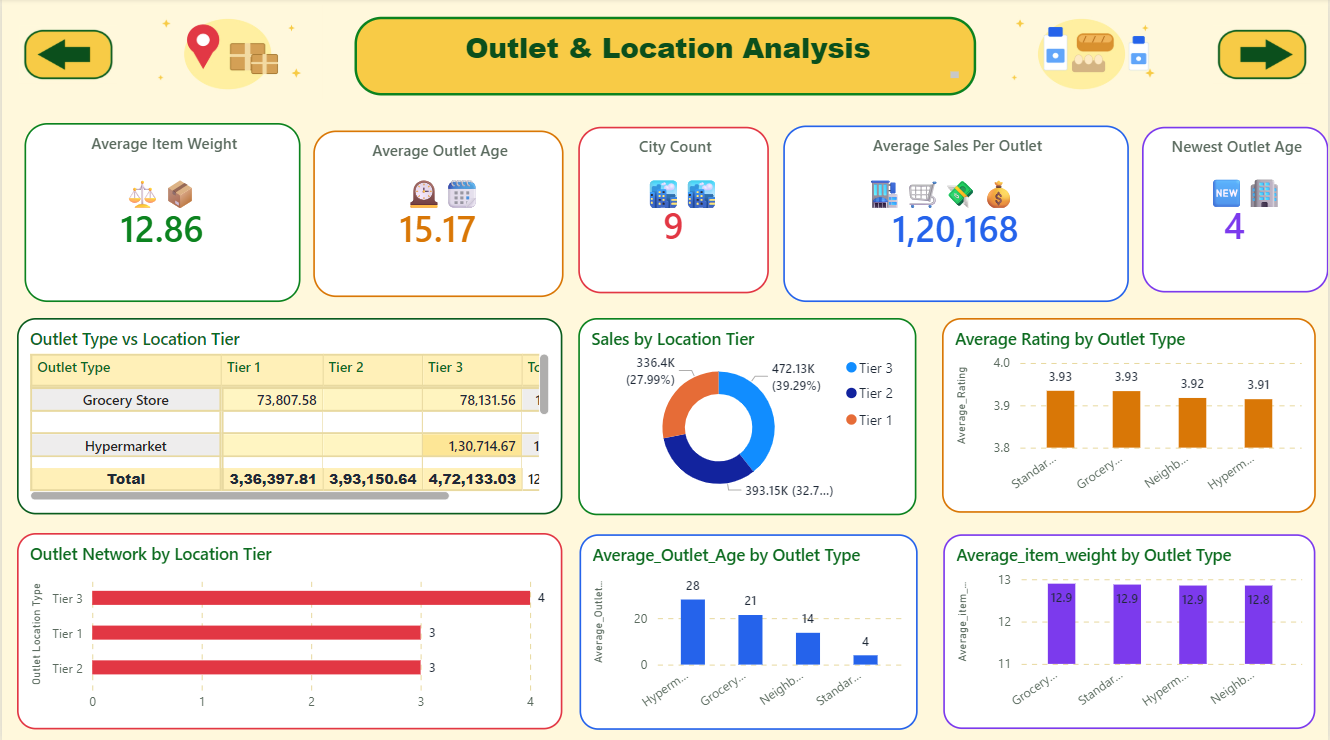

Layout of this report page (visuals, bound fields, positions):
{"tool":"powerbi","page":{"name":"Outlet & Location Analysis","canvas":[1280,720],"ordinal":3},"visuals":[{"type":"textbox","title":"Outlet & Location Analysis","box":[340,18,600,76],"z":0},{"type":"image","box":[122,2,192,100],"z":1000},{"type":"image","box":[946,2,192,100],"z":2000},{"type":"cardVisual","title":"City Count","fields":{"Data":["blinkit_data_master.City_count"]},"box":[556.7,124.5,184.3,160.7],"z":3000},{"type":"cardVisual","title":"Average Outlet Age","fields":{"Data":["blinkit_data_master.Average_Outlet_Age"]},"box":[300.1,128.3,241.6,160.7],"z":4000},{"type":"cardVisual","title":"Average Sales Per Outlet","fields":{"Data":["blinkit_data_master.Average_Sales_per_Outlet"]},"box":[754,123.2,333.5,170.1],"z":5000},{"type":"cardVisual","title":"Average Item Weight","fields":{"Data":["blinkit_data_master.Average_item_weight"]},"box":[21.2,120.8,266.5,173.1],"z":6000},{"type":"cardVisual","title":"Newest Outlet Age","fields":{"Data":["blinkit_data_master.Newest_outlet_Age"]},"box":[1100.5,124.7,179.8,160.2],"z":7000},{"type":"donutChart","title":"Sales  by Location Tier","fields":{"Y":["blinkit_data_master.Total_Sales"],"Category":["blinkit_data_master.Outlet Location Type"]},"box":[556.7,308.9,326.3,190.5],"z":8000},{"type":"pivotTable","title":"Outlet Type vs Location Tier","fields":{"Rows":["blinkit_data_master.Outlet Type"],"Values":["Sum(blinkit_data_master.Sales)"],"Columns":["blinkit_data_master.Outlet Location Type"]},"box":[14.9,308.9,526.8,189.3],"z":9000},{"type":"clusteredBarChart","title":"Outlet Network by Location Tier","fields":{"Y":["Count(blinkit_data_master.Outlet Identifier)"],"Category":["blinkit_data_master.Outlet Location Type"]},"box":[14.9,516.8,526.8,189.3],"z":10000},{"type":"clusteredColumnChart","title":"Average Rating by Outlet Type","fields":{"Y":["blinkit_data_master.Average_Rating"],"Category":["blinkit_data_master.Outlet Type"]},"box":[907.3,309.4,360.7,188.3],"z":11000},{"type":"clusteredColumnChart","fields":{"Y":["blinkit_data_master.Average_Outlet_Age"],"Category":["blinkit_data_master.Outlet Type"]},"box":[557,517,326,189],"z":12000},{"type":"clusteredColumnChart","fields":{"Y":["blinkit_data_master.Average_item_weight"],"Category":["blinkit_data_master.Outlet Type"]},"box":[908.6,517.3,359.5,188.3],"z":13000},{"type":"textbox","box":[20.8,165.1,266.6,123.5],"z":14000},{"type":"textbox","box":[310.6,165.1,231.1,119.8],"z":15000},{"type":"textbox","box":[573.5,165.1,167.5,95.4],"z":16000},{"type":"textbox","box":[761.8,165.1,291,129.6],"z":17000},{"type":"textbox","box":[1121.3,163.9,159,121.1],"z":18000},{"type":"image","box":[12,22,104,66],"z":19000},{"type":"image","box":[1164,22,104,66],"z":20000}]}

Visuals, with their boxes in screenshot pixels (x1, y1, x2, y2), scaled from the page's 1280x720 canvas onto the 1330x740 screenshot:
"Outlet & Location Analysis" textbox: bbox(353, 18, 977, 97)
image: bbox(127, 2, 326, 105)
image: bbox(983, 2, 1182, 105)
"City Count" cardVisual: bbox(578, 128, 770, 293)
"Average Outlet Age" cardVisual: bbox(312, 132, 563, 297)
"Average Sales Per Outlet" cardVisual: bbox(783, 127, 1130, 301)
"Average Item Weight" cardVisual: bbox(22, 124, 299, 302)
"Newest Outlet Age" cardVisual: bbox(1143, 128, 1329, 293)
"Sales  by Location Tier" donutChart: bbox(578, 317, 917, 513)
"Outlet Type vs Location Tier" pivotTable: bbox(15, 317, 563, 512)
"Outlet Network by Location Tier" clusteredBarChart: bbox(15, 531, 563, 726)
"Average Rating by Outlet Type" clusteredColumnChart: bbox(943, 318, 1318, 512)
clusteredColumnChart - blinkit_data_master.Average_Outlet_Age x blinkit_data_master.Outlet Type: bbox(579, 531, 917, 726)
clusteredColumnChart - blinkit_data_master.Average_item_weight x blinkit_data_master.Outlet Type: bbox(944, 532, 1318, 725)
textbox: bbox(22, 170, 299, 297)
textbox: bbox(323, 170, 563, 293)
textbox: bbox(596, 170, 770, 268)
textbox: bbox(792, 170, 1094, 303)
textbox: bbox(1165, 168, 1329, 293)
image: bbox(12, 23, 121, 90)
image: bbox(1209, 23, 1318, 90)
